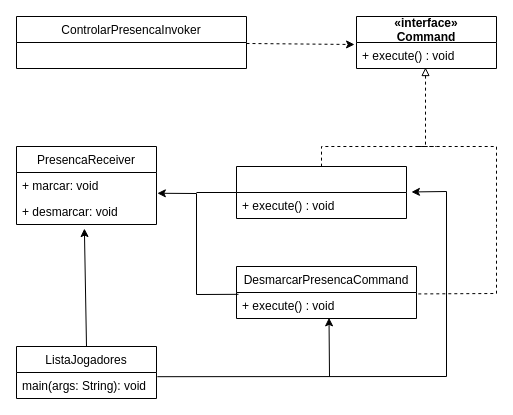
Some shapes in this 513 by 415 pixel diagram are drawn without their labels. The shapes that lost their labels are listed below. From the top down, each one's box as (x1, y1, x2, y2) in pixels, then its label:
(16, 16, 246, 68): + setCommand(c: Command) : void
(236, 166, 406, 218): MarcarPresencaCommand
